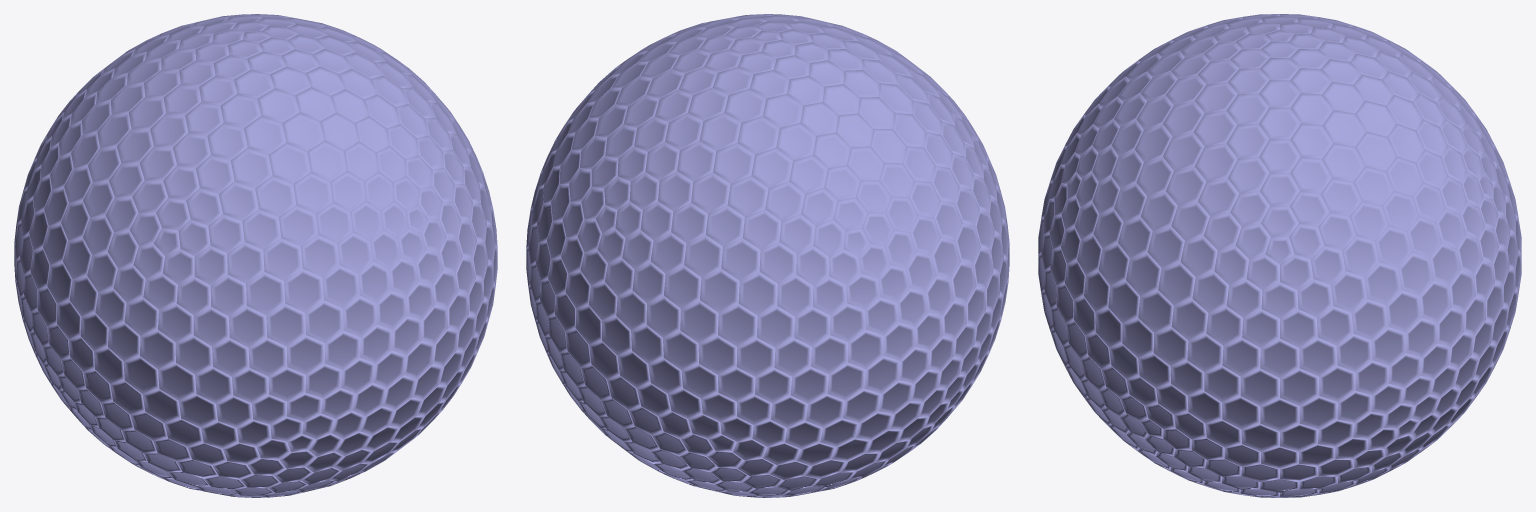
The model's file is balle.glb.
The picture shows the model from 3 angles, left to right: view 1: azimuth 30°, elevation 25°; view 2: azimuth 150°, elevation 25°; view 3: azimuth 270°, elevation 25°; orthographic projection.
Visible parts, largest first — view 1: Icosphere; view 2: Icosphere; view 3: Icosphere.
Part boxes in pixels (x1,y1,x2,y2): Icosphere: (14,14,497,497); Icosphere: (526,14,1009,497); Icosphere: (1038,14,1521,497).
Size of the model in its own units: 0.3935 by 0.3949 by 0.3936.
